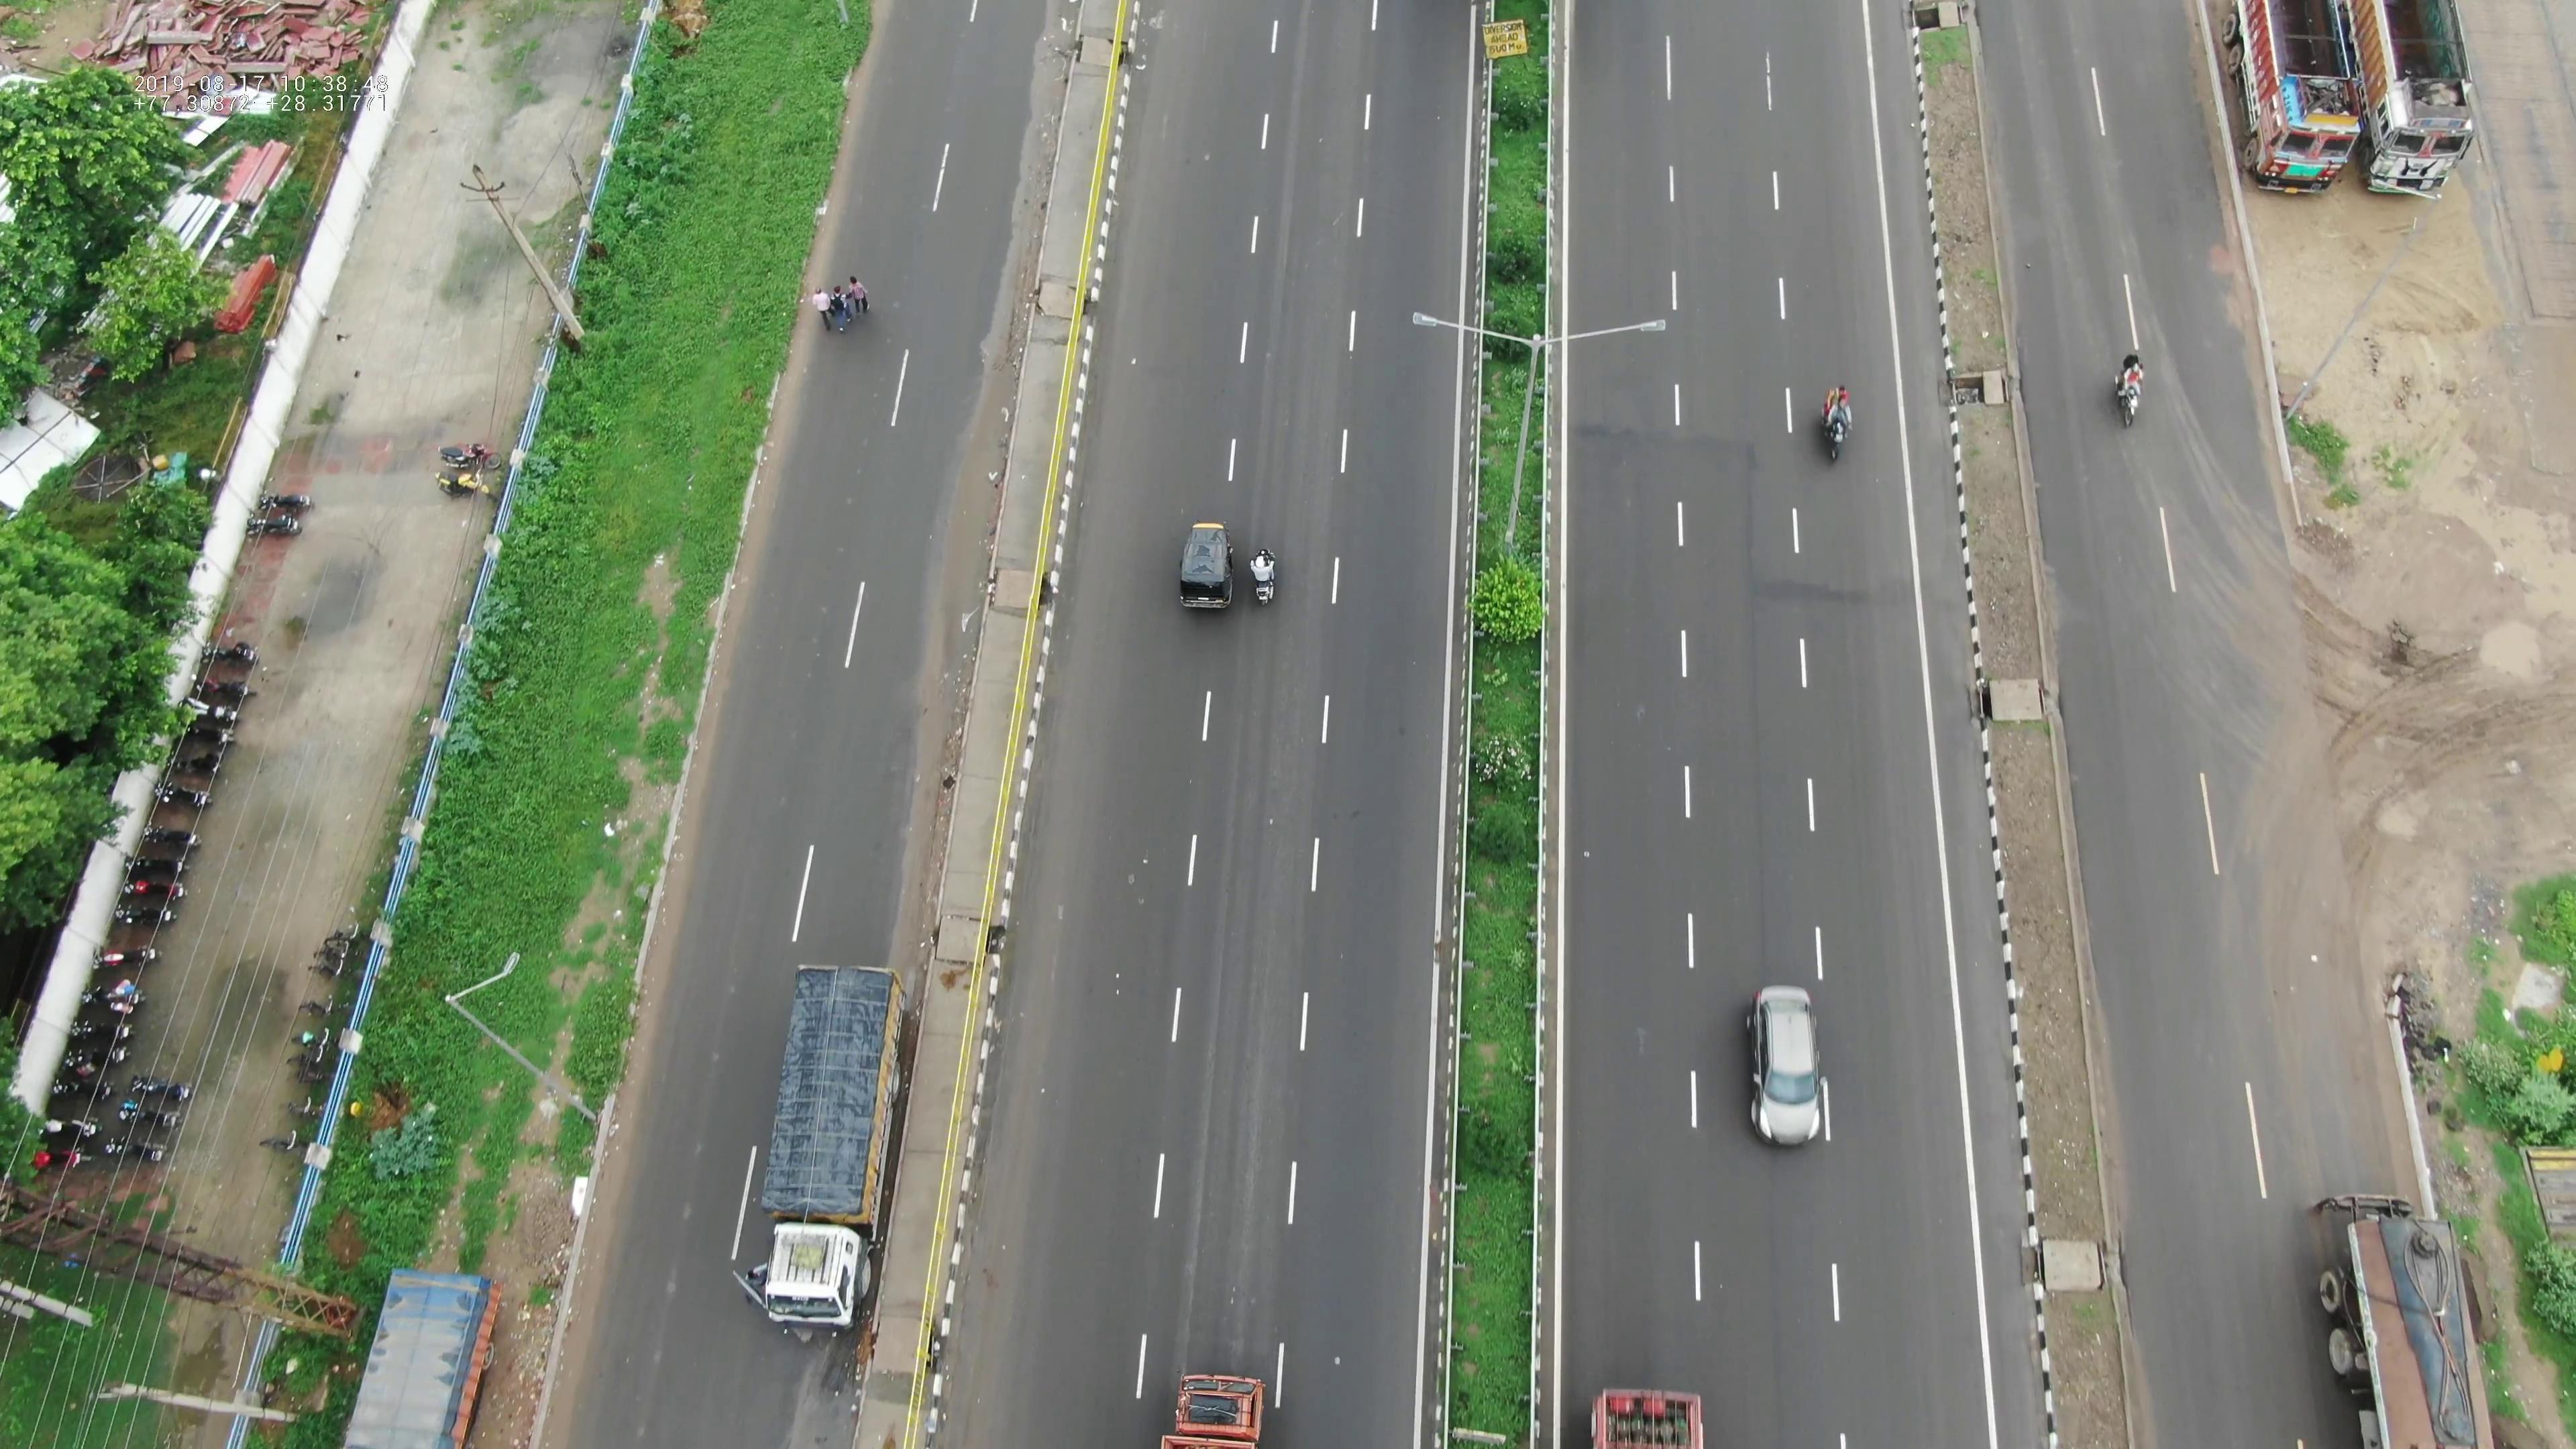Muddy_road: (2259, 702, 2357, 959)
Potholes: (771, 579, 839, 752), (692, 966, 750, 1157), (828, 407, 888, 561), (858, 253, 922, 395), (651, 1171, 708, 1309), (625, 1334, 686, 1444)
